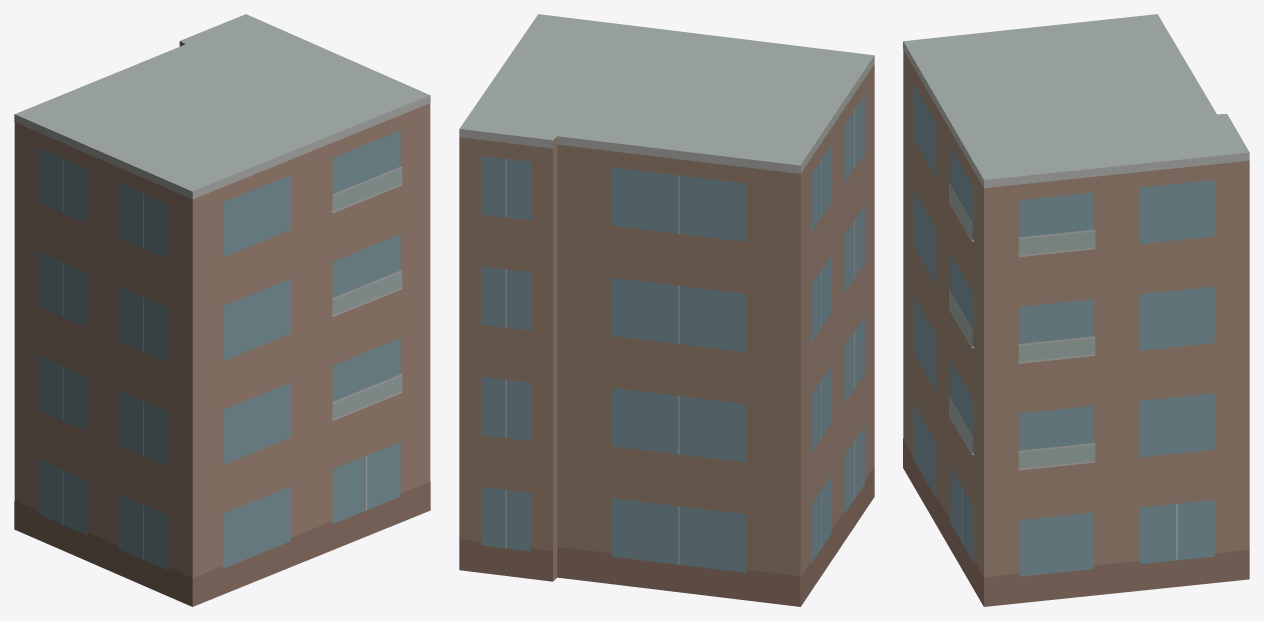
The model's file is survey-upis-32920596.glb.
The picture shows the model from 3 angles, left to right: view 1: azimuth 30°, elevation 25°; view 2: azimuth 150°, elevation 25°; view 3: azimuth 270°, elevation 25°; orthographic projection. The views are drawn at different scales.
Visible parts, largest first — view 1: survey-upis-32920596.tmp; view 2: survey-upis-32920596.tmp; view 3: survey-upis-32920596.tmp.
Boxes of the visible parts, x1,y1,x2,y2 form: survey-upis-32920596.tmp: (14, 14, 430, 606); survey-upis-32920596.tmp: (459, 14, 874, 606); survey-upis-32920596.tmp: (903, 14, 1249, 606).
Bounding box in the file's own units: 10.78 × 12.9 × 9.51.
